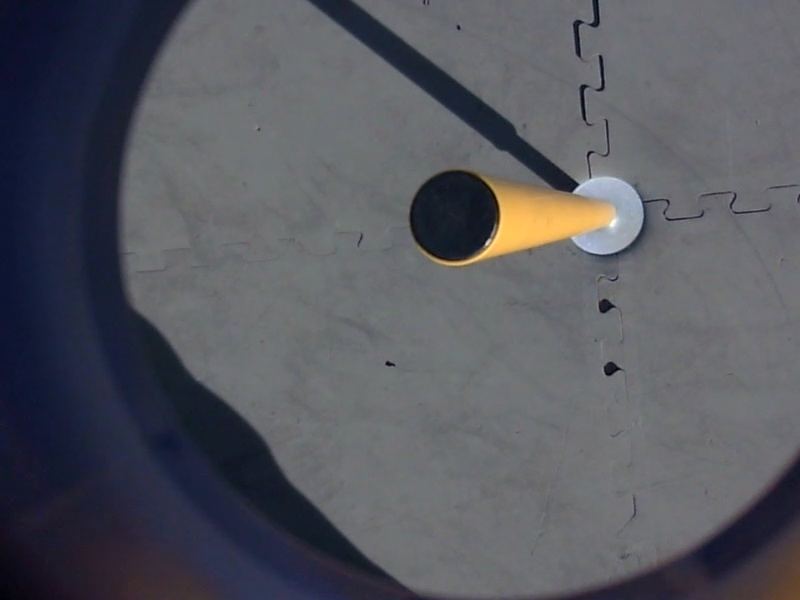tip: (402, 162, 508, 272)
